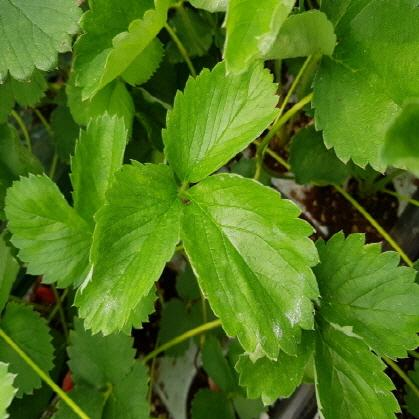Powdery Mildew Leaf: (178, 173, 321, 361), (72, 158, 180, 336), (221, 0, 296, 77)
